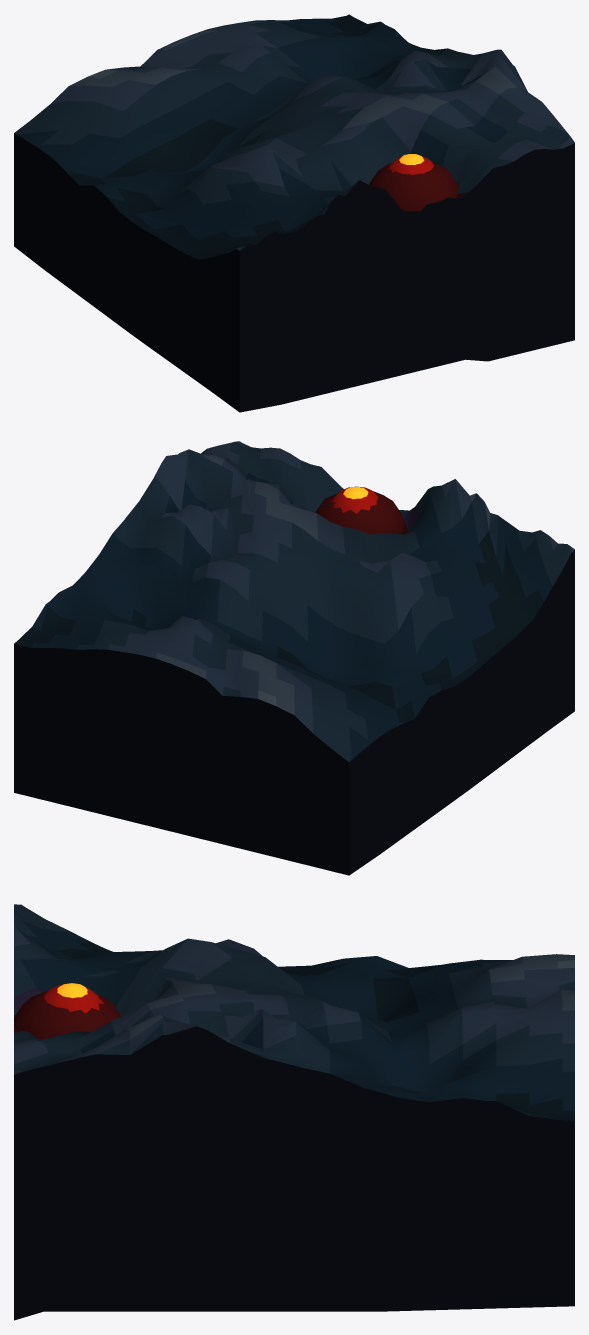
The model's file is newshn-79.glb.
3 views of the same model, one above another, from view 1: azimuth 30°, elevation 25°; view 2: azimuth 150°, elevation 25°; view 3: azimuth 270°, elevation 25° (orthographic). The views are drawn at different scales.
Parts seen in each view (by area): view 1: newshn-79; view 2: newshn-79; view 3: newshn-79.
Boxes of the visible parts, x1,y1,x2,y2 form: newshn-79: [14, 14, 574, 412]; newshn-79: [14, 441, 574, 875]; newshn-79: [14, 904, 574, 1320].
Size of the model in its own units: 2 by 1.35 by 2.33.
